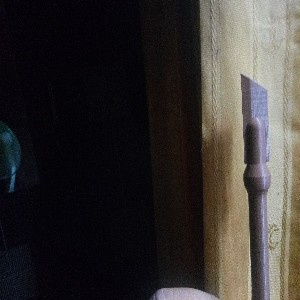cutter: (239, 73, 272, 300)
